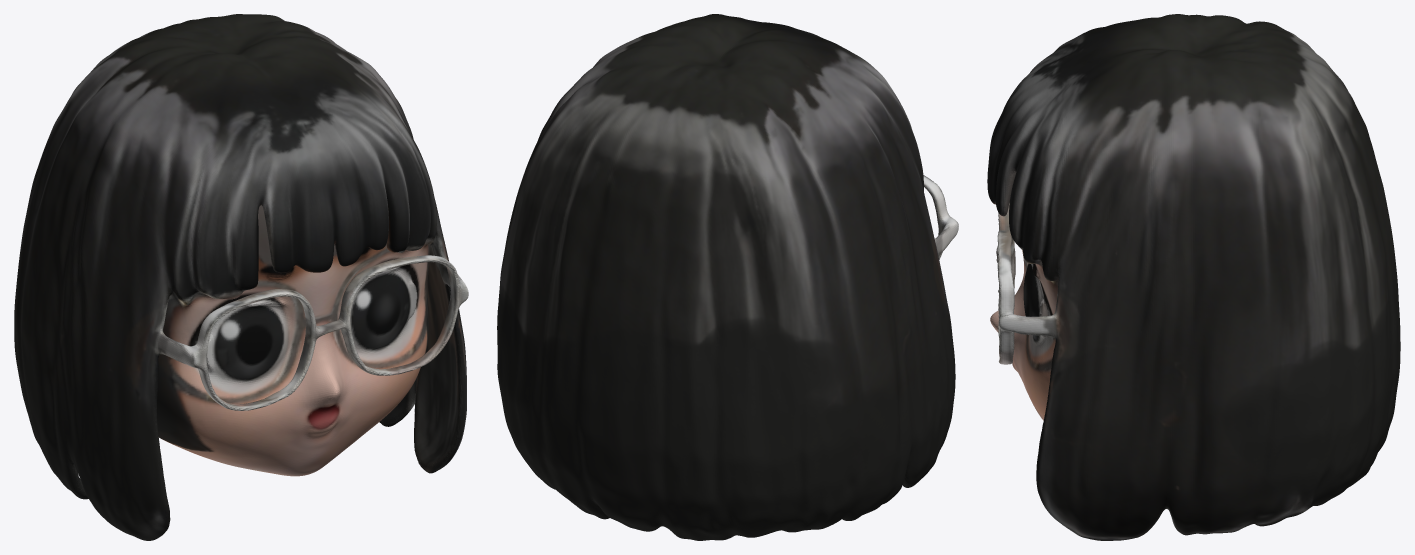
File: anime-head.glb
3 views of the same model, side by side, from view 1: azimuth 30°, elevation 25°; view 2: azimuth 150°, elevation 25°; view 3: azimuth 270°, elevation 25° (orthographic).
Parts seen in each view (by area): view 1: Mesh; view 2: Mesh; view 3: Mesh.
Part boxes in pixels (x1,y1,x2,y2): Mesh: (14,14,468,540); Mesh: (497,14,958,540); Mesh: (987,14,1400,540).
Bounding box in the file's own units: 1.8 × 2 × 1.74.
